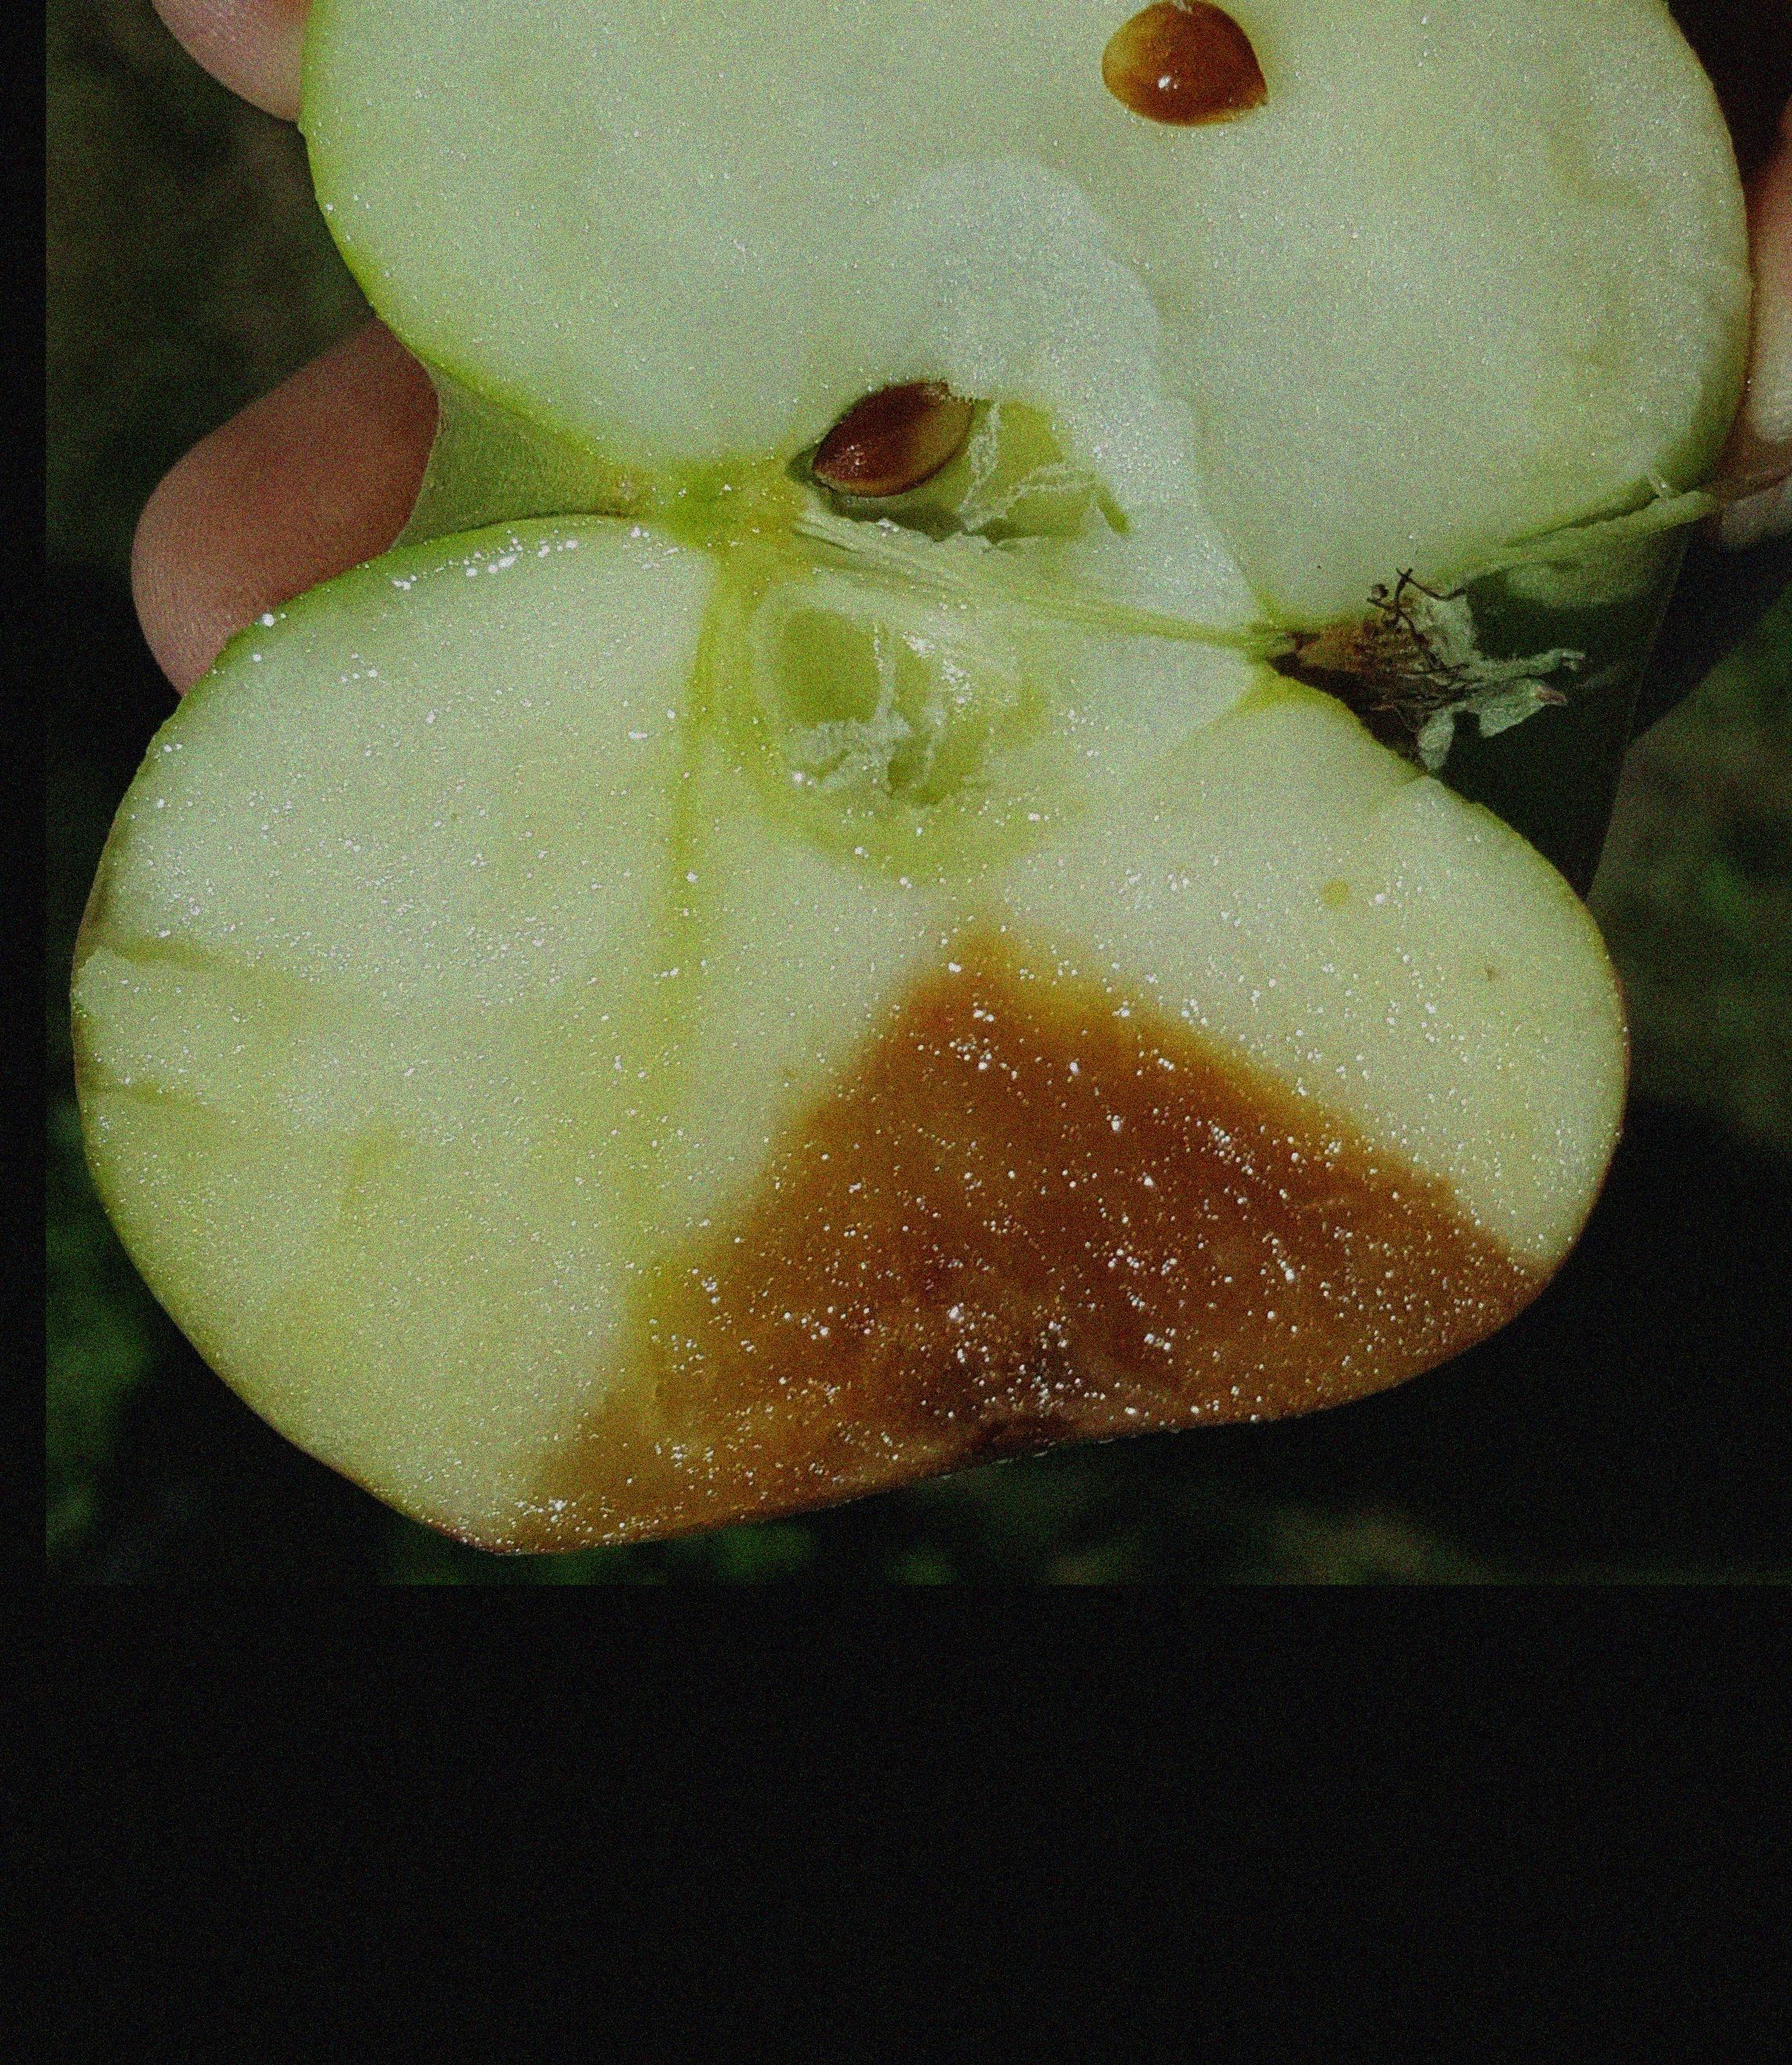rotten apple: (267, 983, 1597, 1484)
